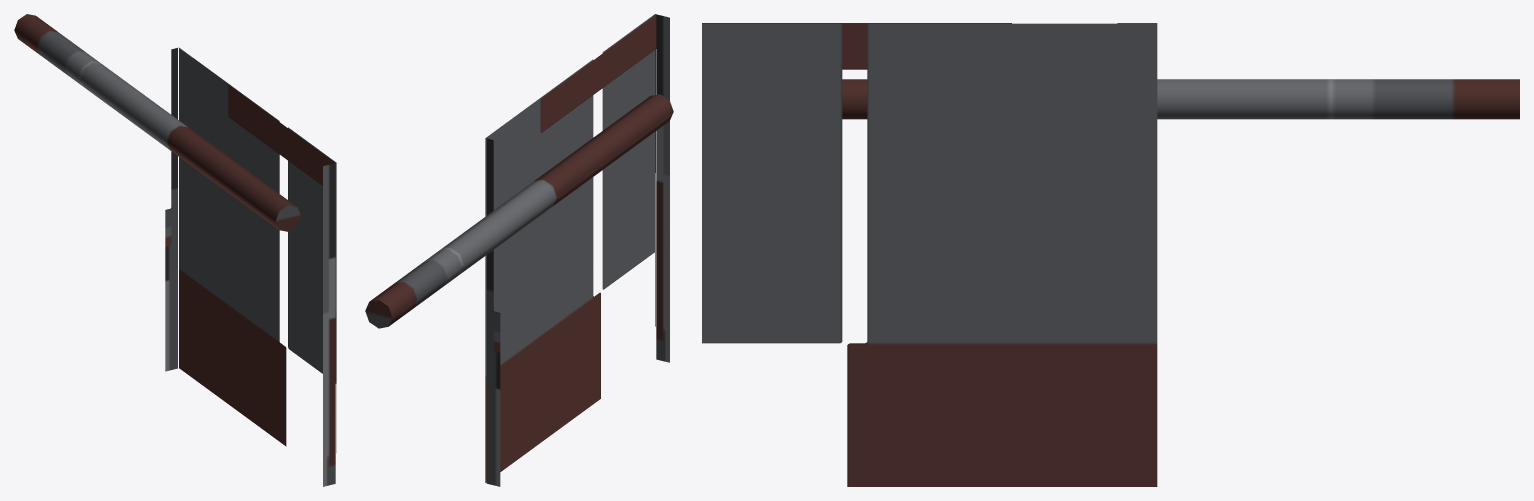
Rendered from section-0.obj.
The picture shows the model from 3 angles, left to right: view 1: azimuth 30°, elevation 25°; view 2: azimuth 150°, elevation 25°; view 3: azimuth 270°, elevation 25°; orthographic projection. The views are drawn at different scales.
Bounding box in the file's own units: 0.139 × 1.08 × 1.73.
